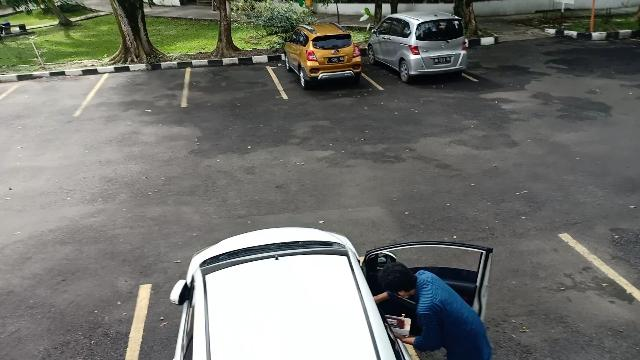empty: (84, 60, 188, 112), (185, 59, 277, 107)
occupied: (366, 28, 482, 88), (270, 42, 370, 98)
